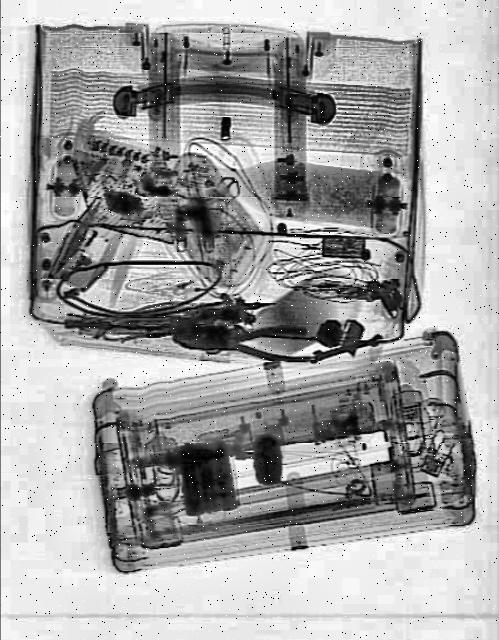Pliers: (174, 321, 314, 364)
Wrench: (310, 330, 386, 362)
